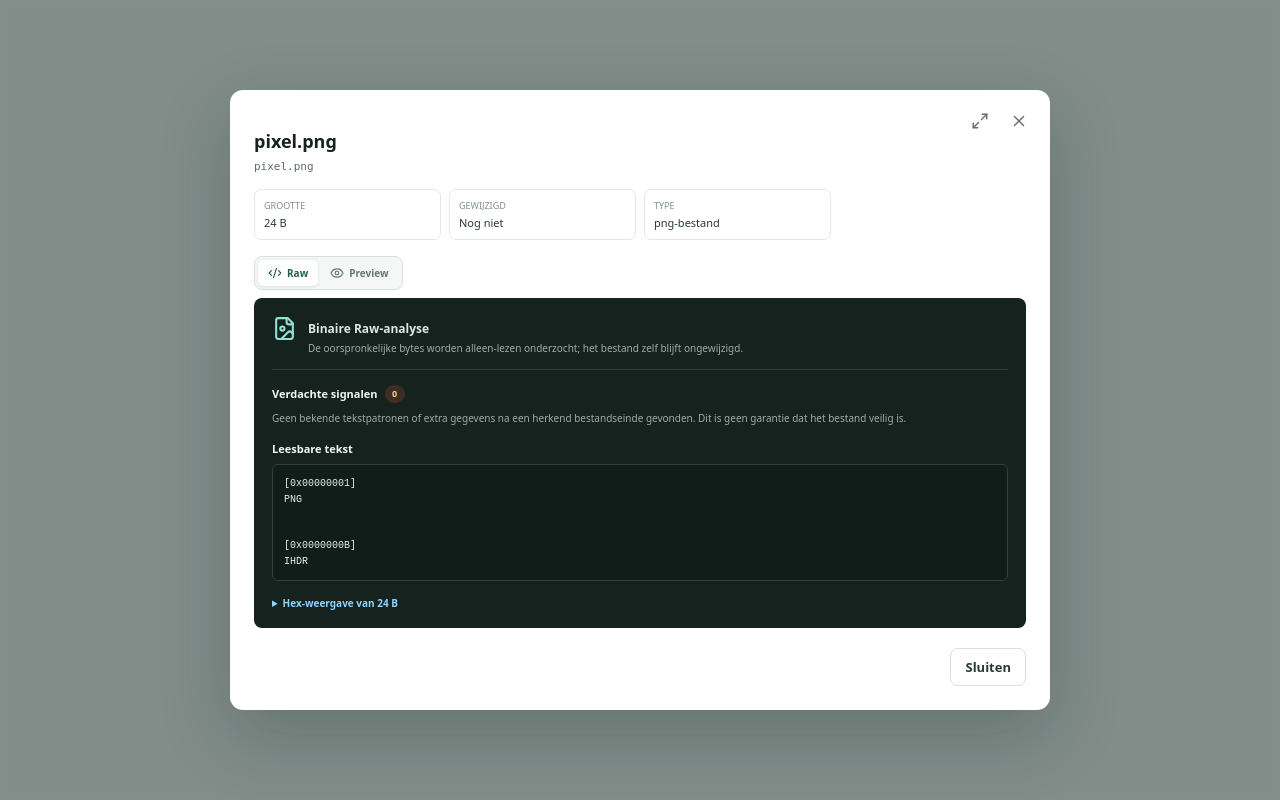
ChecksumFilePreview › opens binary images in Raw and preserves their original data in Preview
The image size is (1280, 800).
Expected: the element named "Afbeeldingsweergave" is shown, [254,256,402,290]
Expected: the button "Raw" is shown, [258,260,318,286]
Click the button "Preview": (359,273) [320,260,398,286]
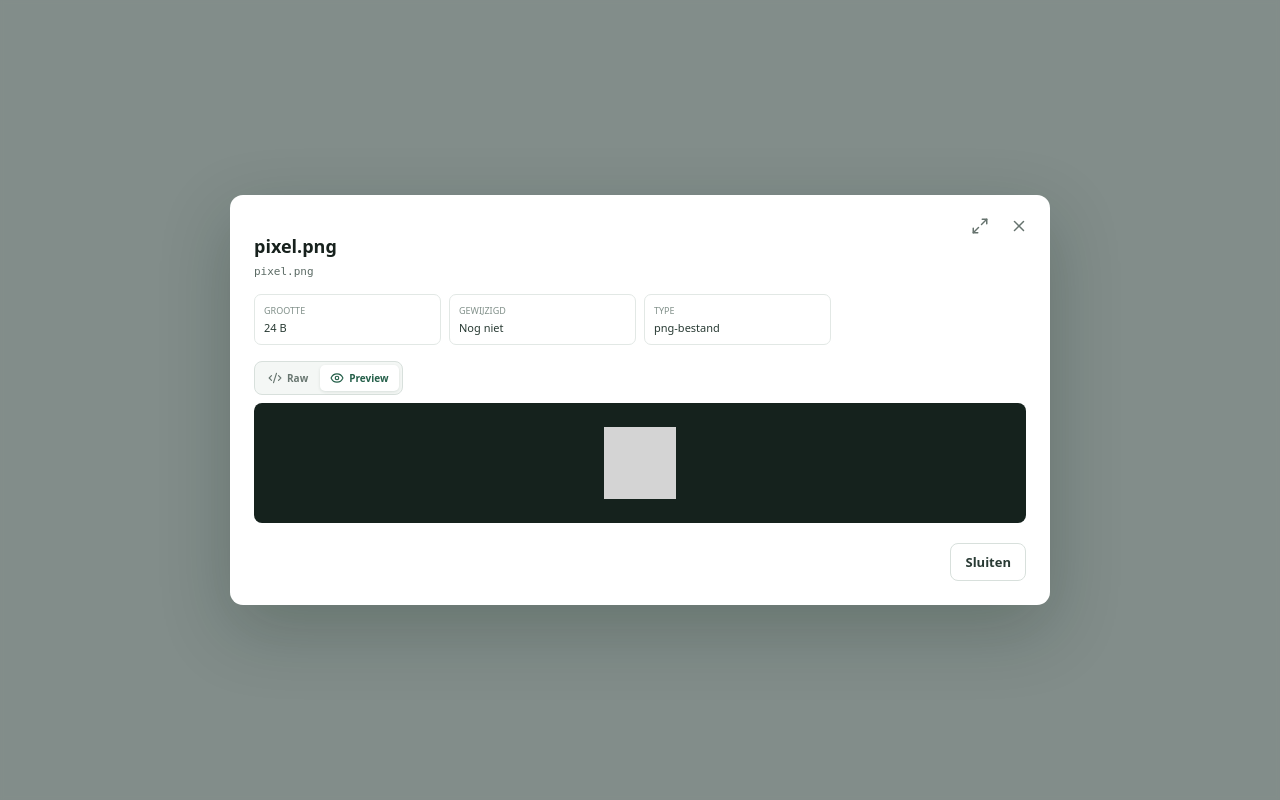
Click the button named "Fullscreen openen": (980,226) [963,209,997,243]
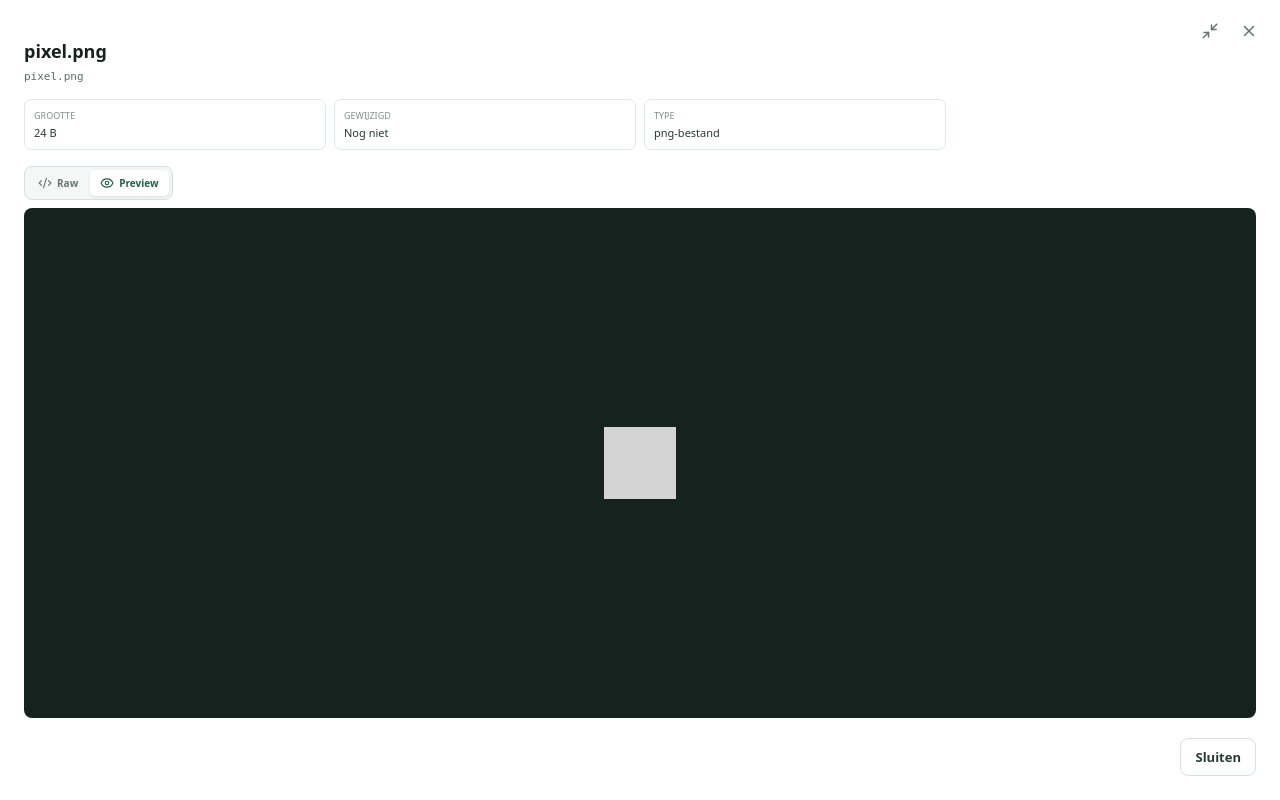
Expected: the dialog has class "fullscreen"
Click the button "Raw": (58,183) [28,170,88,196]
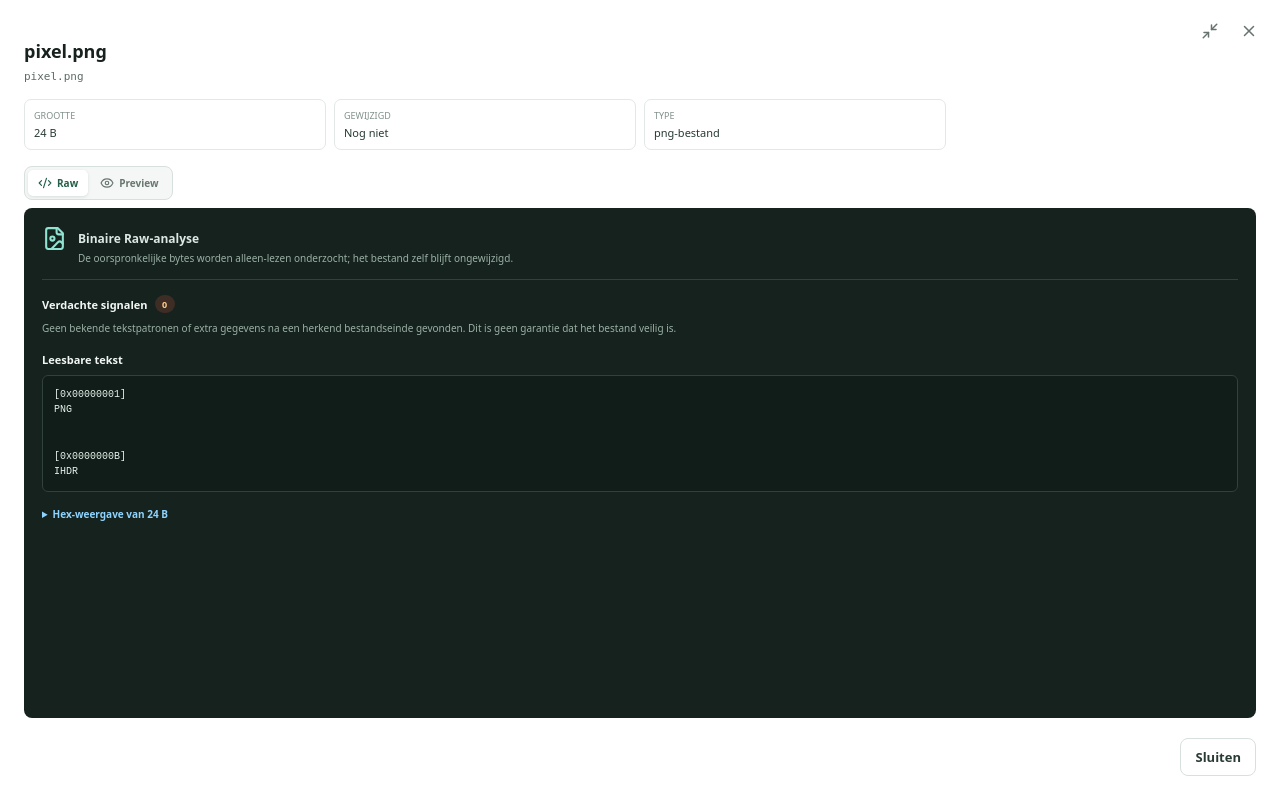
Expected: the element with class "binary-inspector" is shown
